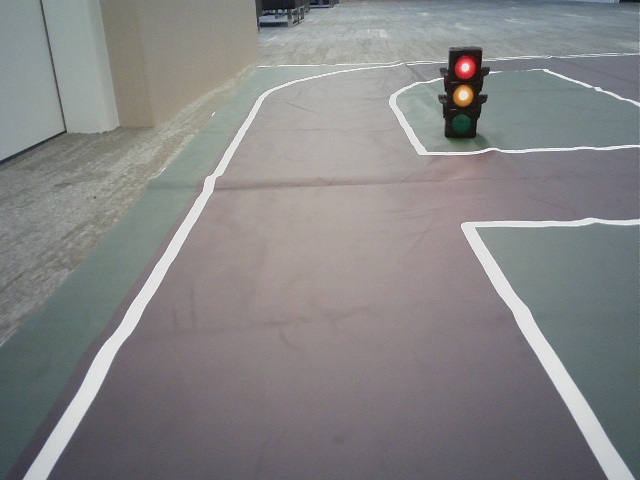red: (448, 51, 473, 135)
